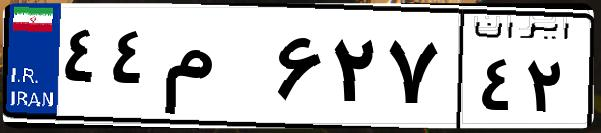2: (330, 28, 385, 110), (525, 38, 570, 115)
4: (57, 26, 110, 100), (475, 38, 525, 113), (110, 28, 158, 98)
6: (270, 28, 330, 110)
7: (385, 28, 445, 110)
م: (158, 20, 270, 120)
